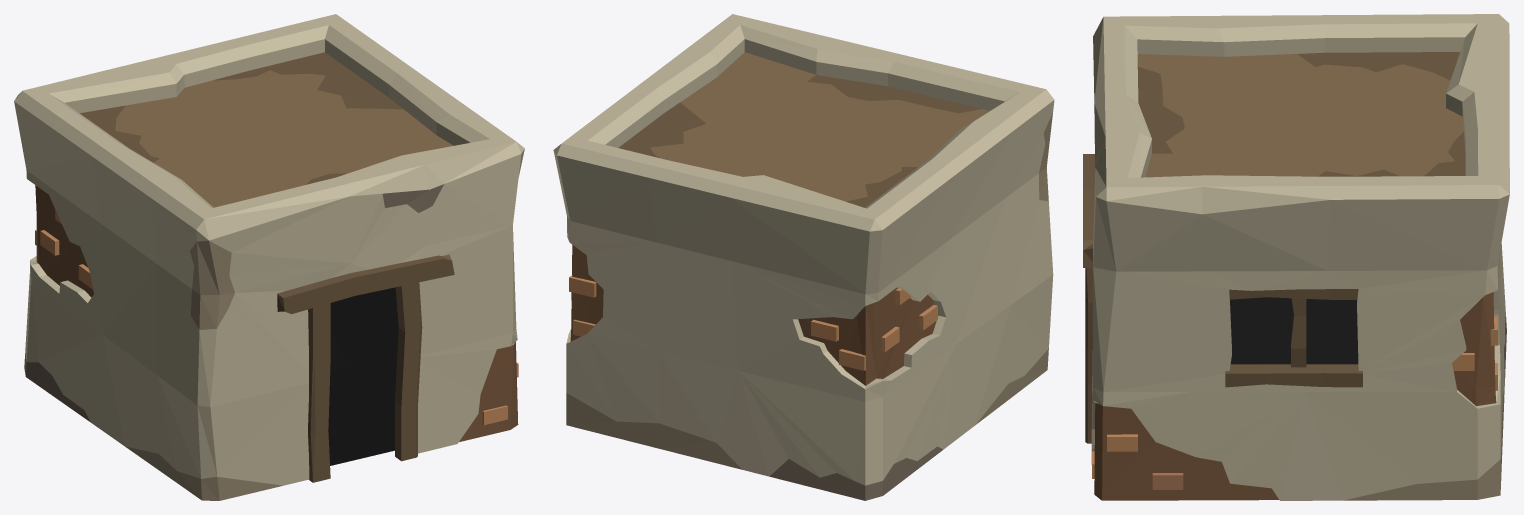
The model's file is house_b.glb.
3 views of the same model, side by side, from view 1: azimuth 30°, elevation 25°; view 2: azimuth 150°, elevation 25°; view 3: azimuth 270°, elevation 25° (orthographic). The views are drawn at different scales.
Parts seen in each view (by area): view 1: SM_Bld_Village_02; view 2: SM_Bld_Village_02; view 3: SM_Bld_Village_02.
Boxes of the visible parts, x1=… form: SM_Bld_Village_02: x1=14, y1=14, x2=524, y2=500; SM_Bld_Village_02: x1=553, y1=14, x2=1054, y2=500; SM_Bld_Village_02: x1=1083, y1=14, x2=1509, y2=500.
Bounding box in the file's own units: 409 × 329 × 405.
1 material, 1 textured.
